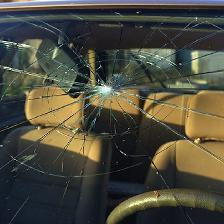broken_part: (62, 49, 140, 131)
